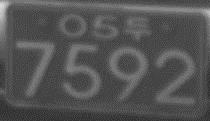0: (57, 12, 87, 38)
2: (154, 45, 198, 106)
5: (61, 42, 102, 100), (90, 13, 119, 40)
7: (14, 40, 56, 98)
9: (107, 45, 149, 102)
두: (124, 14, 151, 42)
